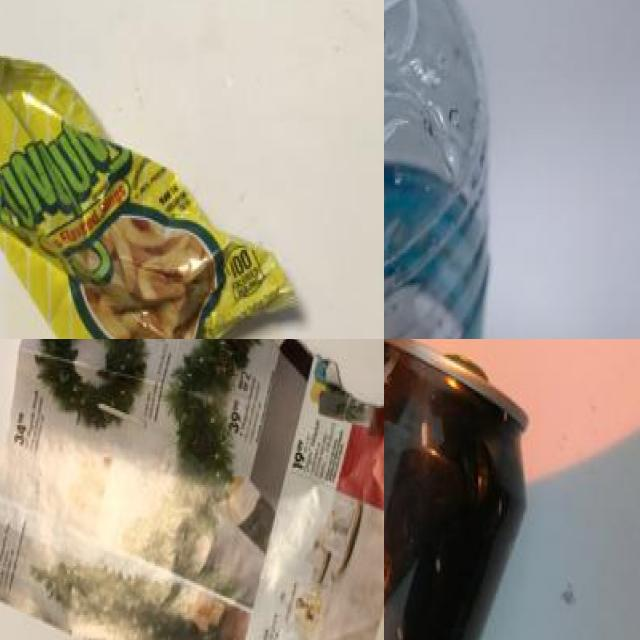paper: (0, 339, 384, 640)
plastic: (384, 339, 540, 640), (384, 0, 503, 339)
trash: (0, 6, 315, 339)
